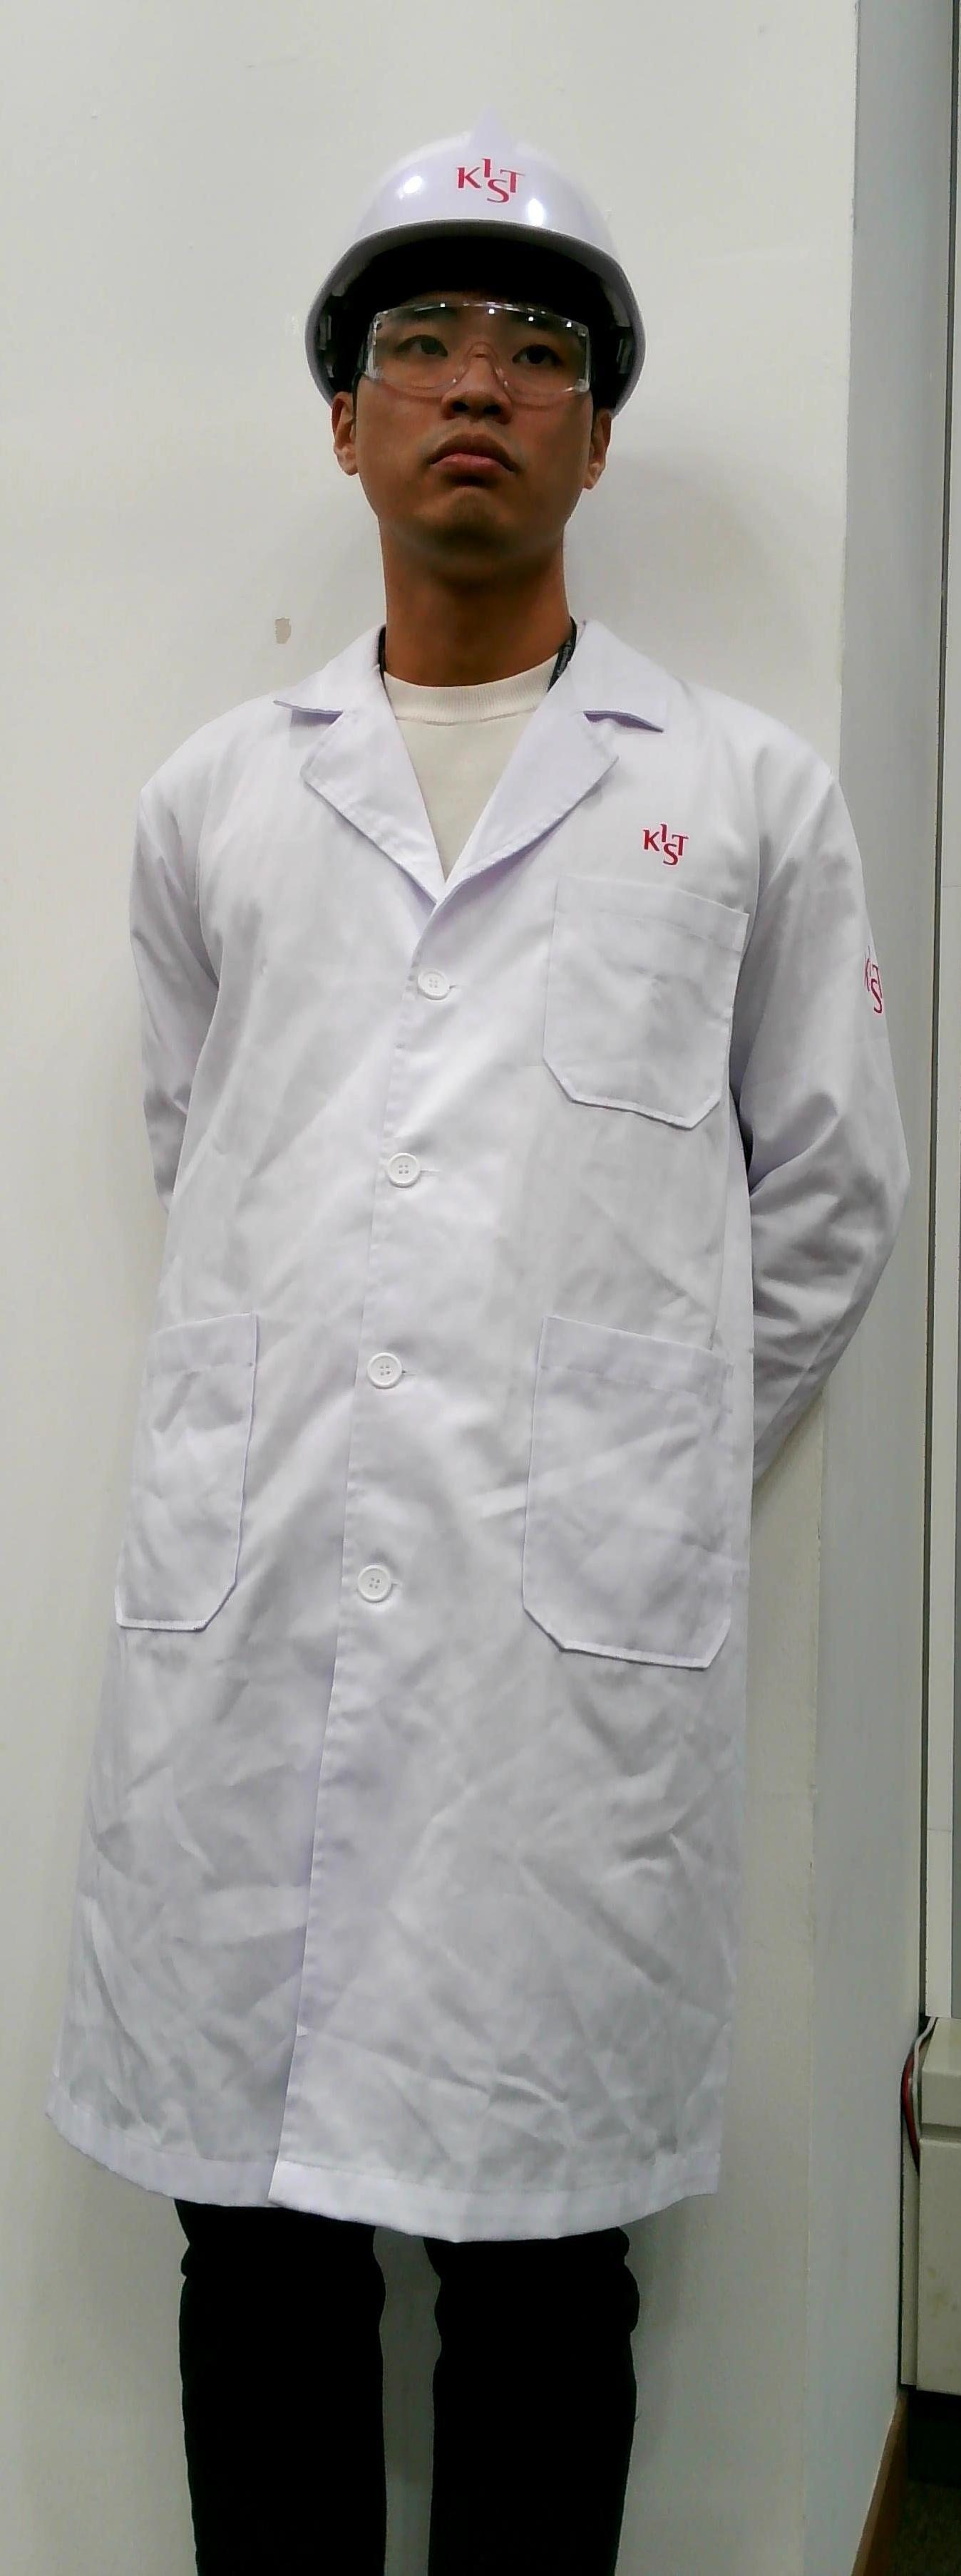lab_coat: (158, 706, 807, 2196)
